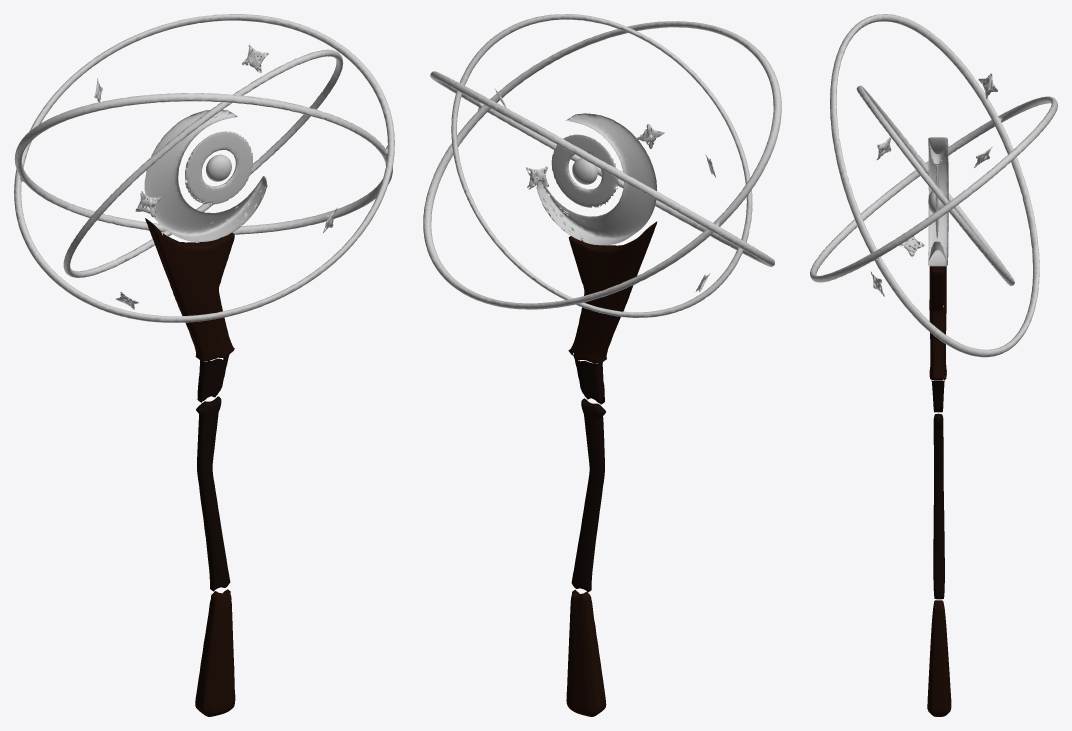
Rendered from staff.glb.
The picture shows the model from 3 angles, left to right: view 1: azimuth 30°, elevation 25°; view 2: azimuth 150°, elevation 25°; view 3: azimuth 270°, elevation 25°; orthographic projection. The views are drawn at different scales.
Visible parts, largest first — view 1: Material.009, Material.001, Material.007, Material.002, Material.006, Material.011; view 2: Material.009, Material.001, Material.007, Material.002, Material.006, Material.011; view 3: Material.009, Material.001, Material.002, Material.007, Material.011.
Boxes of the visible parts, x1=… form: Material.009: x1=14, y1=14, x2=394, y2=322; Material.001: x1=145, y1=218, x2=235, y2=716; Material.007: x1=144, y1=110, x2=267, y2=241; Material.002: x1=196, y1=354, x2=230, y2=591; Material.006: x1=185, y1=131, x2=252, y2=204; Material.011: x1=94, y1=44, x2=337, y2=309; Material.009: x1=423, y1=14, x2=781, y2=317; Material.001: x1=566, y1=221, x2=657, y2=716; Material.007: x1=536, y1=113, x2=657, y2=245; Material.002: x1=571, y1=357, x2=605, y2=592; Material.006: x1=551, y1=134, x2=618, y2=207; Material.011: x1=495, y1=89, x2=715, y2=291; Material.009: x1=810, y1=14, x2=1057, y2=357; Material.001: x1=927, y1=266, x2=951, y2=716; Material.002: x1=931, y1=380, x2=944, y2=599; Material.007: x1=928, y1=137, x2=948, y2=266; Material.011: x1=870, y1=73, x2=997, y2=296.
Bounding box in the file's own units: 0.5217 × 0.959 × 0.3379.
